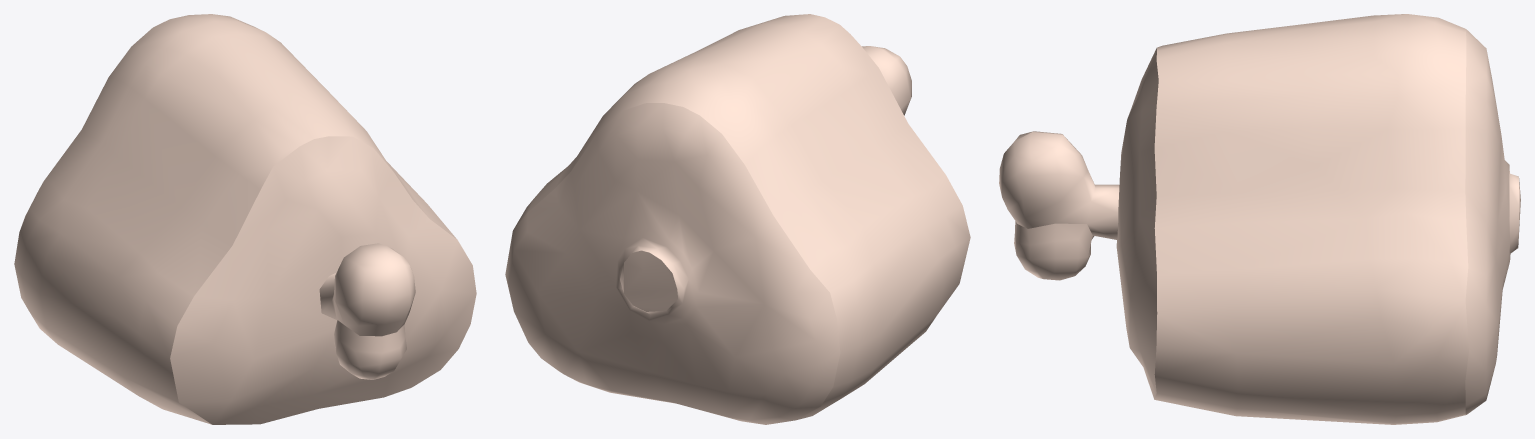
Rendered from obj_drop_vampire.fbx.
3 renders of one model, left to right at view 1: azimuth 30°, elevation 25°; view 2: azimuth 150°, elevation 25°; view 3: azimuth 270°, elevation 25°, orthographic. The views are drawn at different scales.
Parts seen in each view (by area): view 1: obj_drop_vampire; view 2: obj_drop_vampire; view 3: obj_drop_vampire.
Boxes of the visible parts, x1,y1,x2,y2 form: obj_drop_vampire: (14, 14, 476, 424); obj_drop_vampire: (505, 14, 970, 424); obj_drop_vampire: (999, 14, 1520, 424).
Size of the model in its own units: 1.66 by 1.47 by 1.99.
